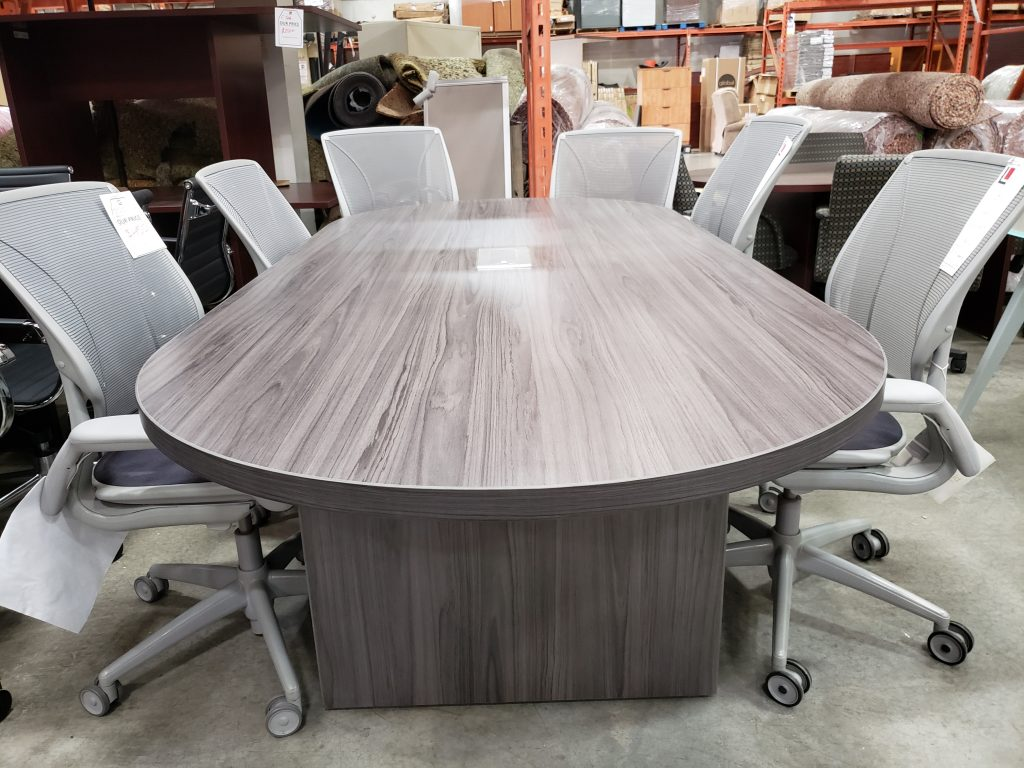conference_table: (137, 198, 887, 711)
